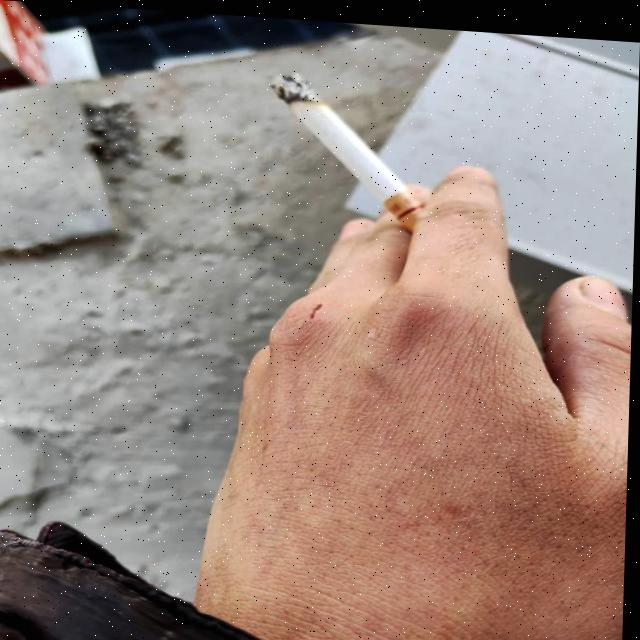cigarette: (269, 68, 425, 227)
